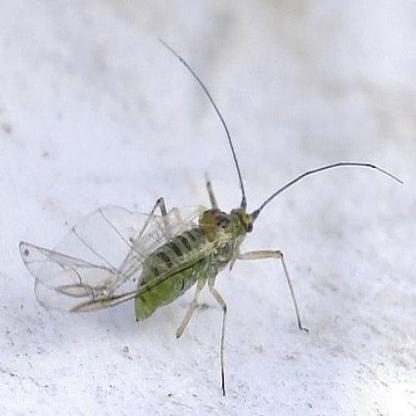aphid: (20, 40, 384, 368)
